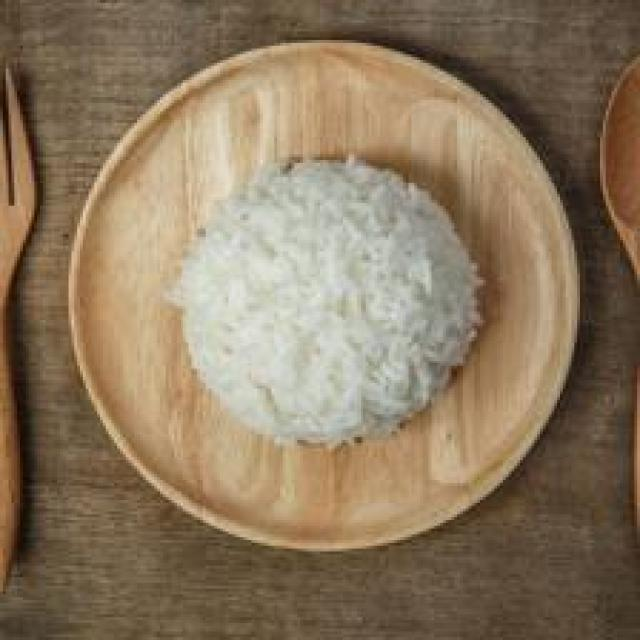Wet Waste: (163, 149, 491, 455)
